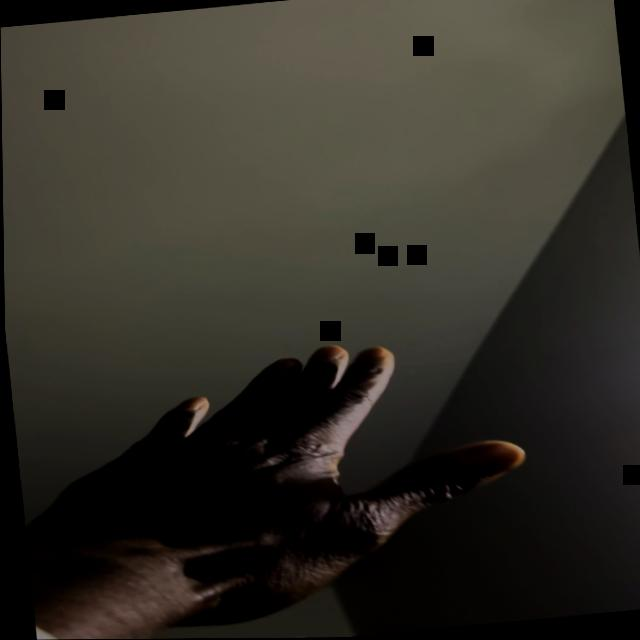Paper: (8, 327, 538, 640)
